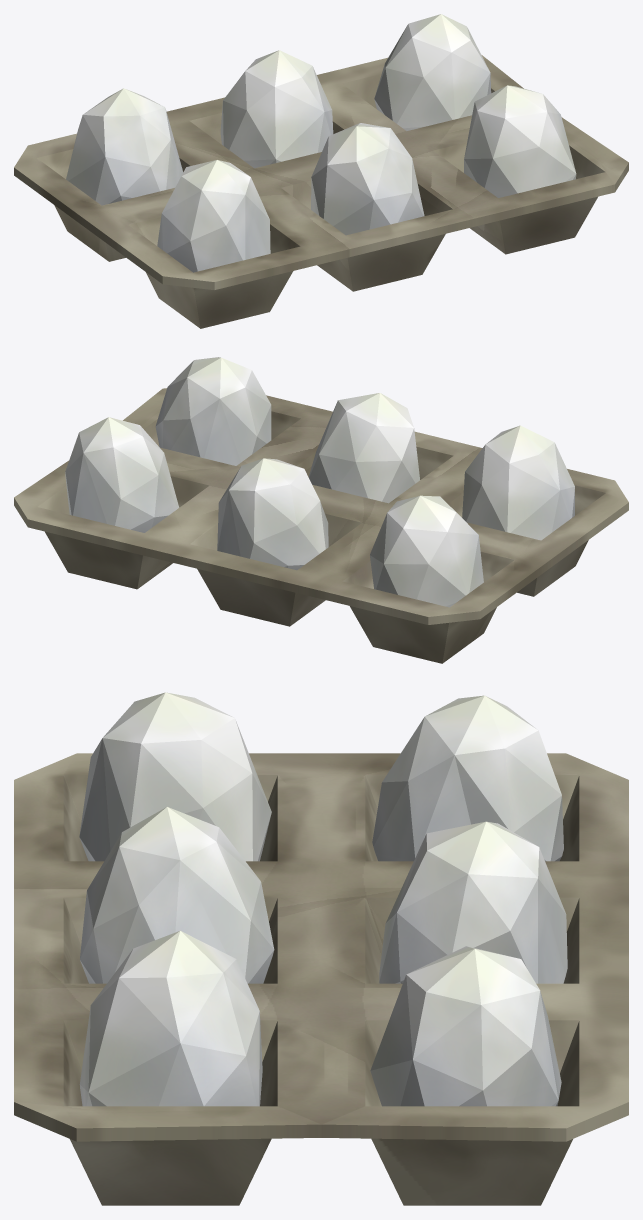
The model's file is egg_carton_full.gltf.
3 views of the same model, one above another, from view 1: azimuth 30°, elevation 25°; view 2: azimuth 150°, elevation 25°; view 3: azimuth 270°, elevation 25° (orthographic). The views are drawn at different scales.
Parts seen in each view (by area): view 1: EggPack, Egg3, Egg2, Egg5, Egg4, Egg1, Egg6; view 2: EggPack, Egg5, Egg1, Egg2, Egg3, Egg6, Egg4; view 3: EggPack, Egg6, Egg5, Egg4, Egg2, Egg3, Egg1.
Boxes of the visible parts, x1,y1,x2,y2 form: EggPack: [14, 55, 628, 328]; Egg3: [220, 50, 333, 168]; Egg2: [66, 88, 183, 205]; Egg5: [374, 14, 491, 130]; Egg4: [311, 123, 424, 235]; Egg1: [157, 160, 270, 272]; Egg6: [464, 85, 576, 197]; EggPack: [14, 388, 628, 663]; Egg5: [65, 417, 179, 532]; Egg1: [462, 425, 574, 540]; Egg2: [370, 495, 483, 607]; Egg3: [217, 458, 328, 570]; Egg6: [155, 357, 271, 465]; Egg4: [308, 393, 419, 503]; EggPack: [14, 753, 628, 1205]; Egg6: [79, 930, 262, 1106]; Egg5: [370, 946, 561, 1106]; Egg4: [80, 807, 274, 983]; Egg2: [372, 695, 563, 861]; Egg3: [379, 821, 567, 983]; Egg1: [79, 692, 271, 861].
Bounding box in the file's own units: 0.7026 × 0.2106 × 0.487.
2 materials, 2 textured.
